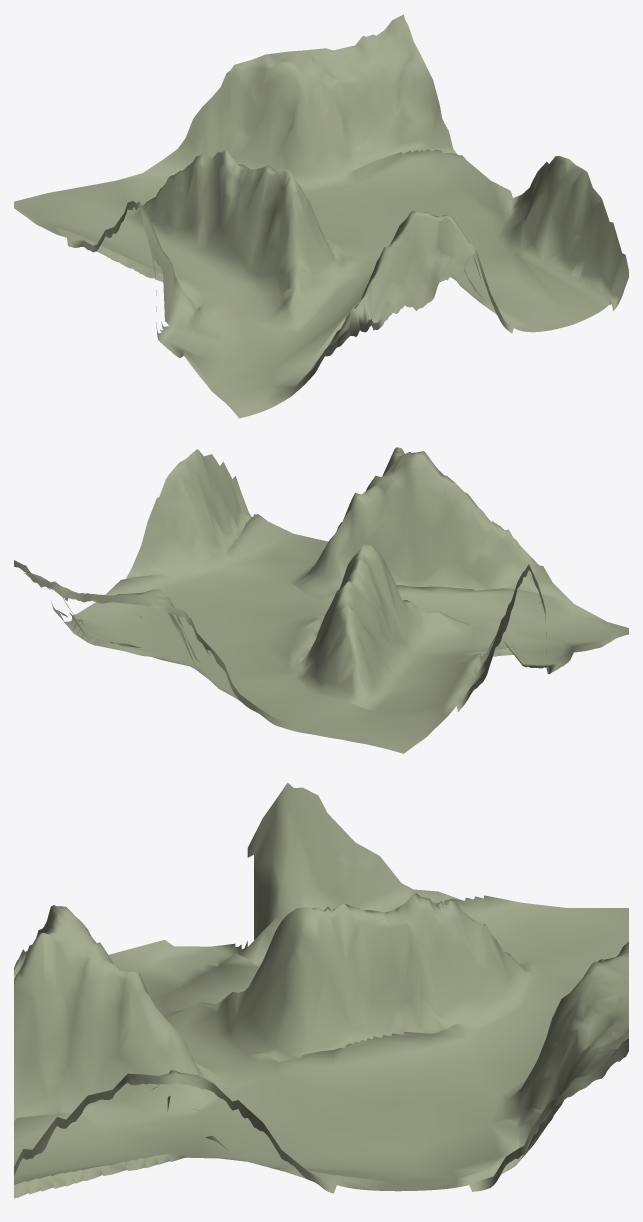
The model's file is terrain_r2_c2_lod1.glb.
3 renders of one model, top to bottom at view 1: azimuth 30°, elevation 25°; view 2: azimuth 150°, elevation 25°; view 3: azimuth 270°, elevation 25°, orthographic. The views are drawn at different scales.
Parts seen in each view (by area): view 1: terrain_r2_c2_lod1; view 2: terrain_r2_c2_lod1; view 3: terrain_r2_c2_lod1.
Boxes of the visible parts, x1,y1,x2,y2 form: terrain_r2_c2_lod1: (14,14,628,418); terrain_r2_c2_lod1: (14,447,628,753); terrain_r2_c2_lod1: (14,782,628,1198).
Bounding box in the file's own units: 50 × 18.09 × 50.
